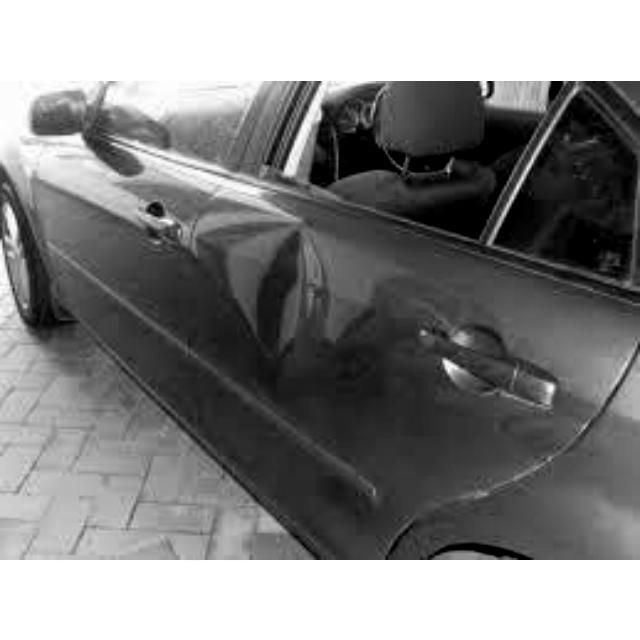doorouter-dent: (233, 165, 492, 466)
